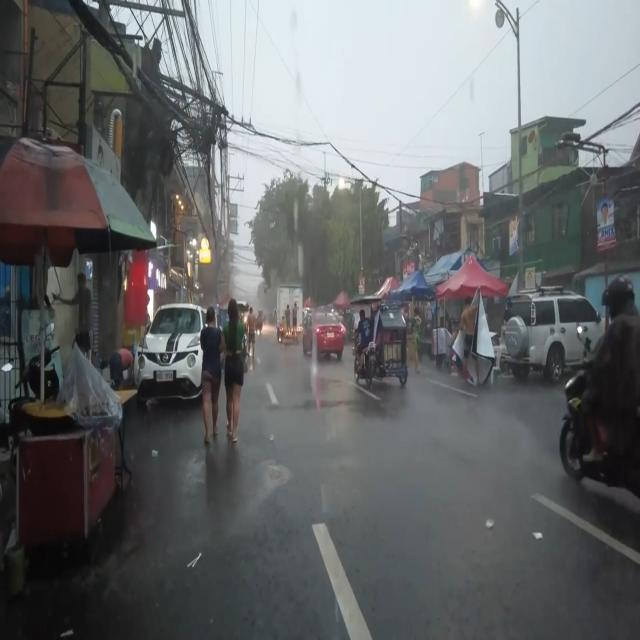full: (600, 276, 636, 320)
